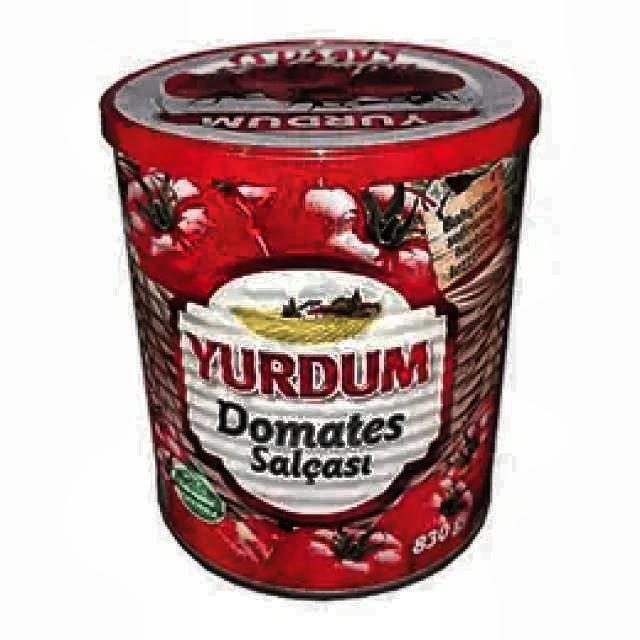metal: (98, 38, 542, 603)
